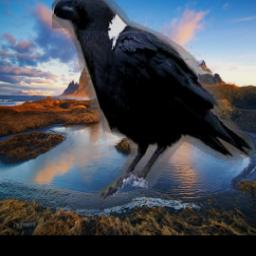Crow: (52, 0, 255, 202)
